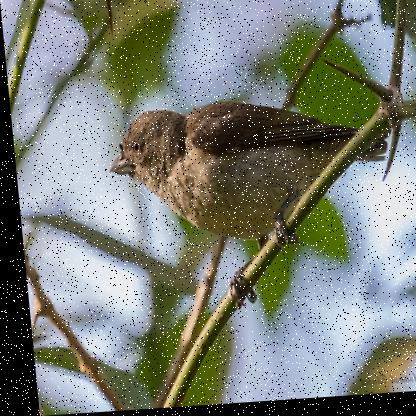Burung: (100, 101, 393, 280)
